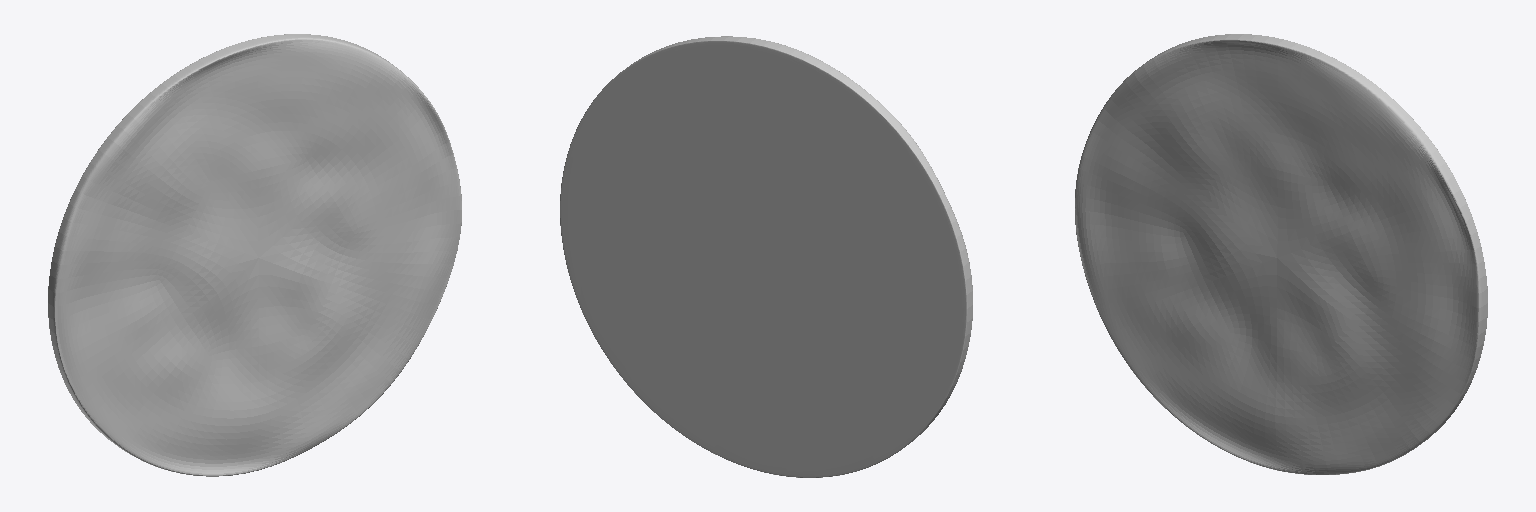
File: grass5.obj
The picture shows the model from 3 angles: view 1: azimuth 30°, elevation 25°; view 2: azimuth 150°, elevation 25°; view 3: azimuth 330°, elevation 25°; orthographic projection.
Size of the model in its own units: 28.68 by 28.68 by 1.15.